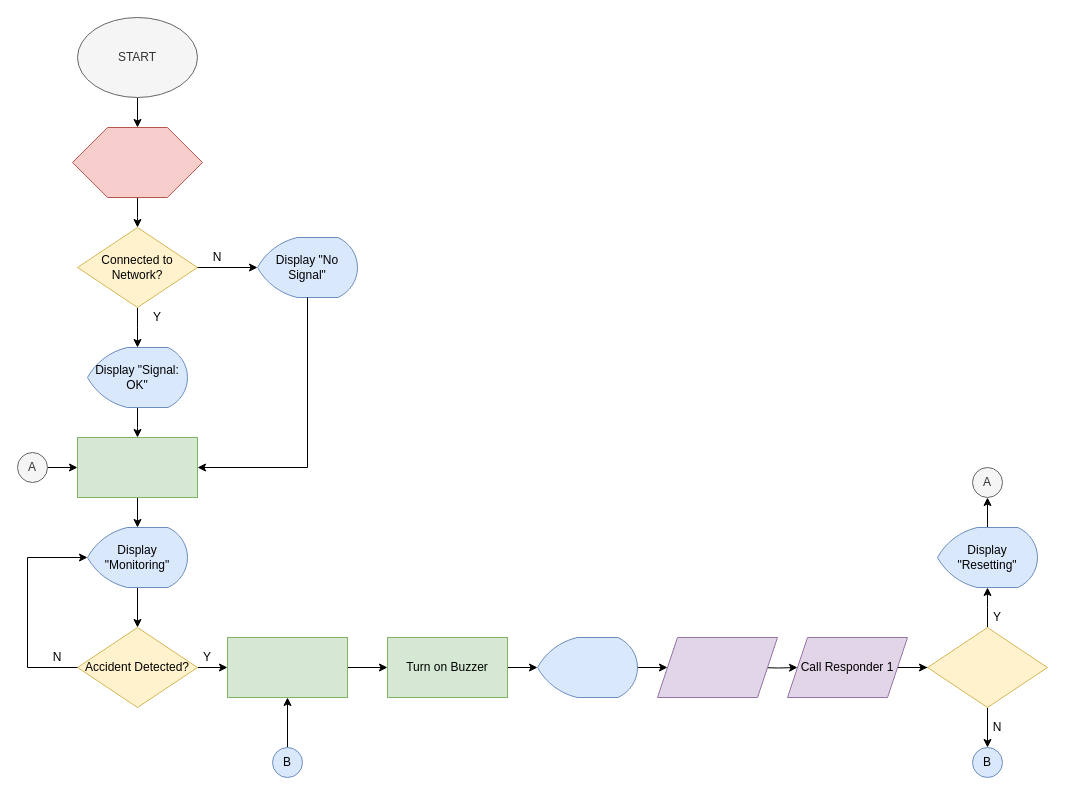
Image size: 1065x795. Some labels were removed from this diagram. Each missing label, with the centre of its shape:
"Display Camera Number" belongs at point 587,667.
"Initialize the GSM Module to the Network" belongs at point 137,162.
"Reset?" belongs at point 987,667.
"Send SMS Notifications" belongs at point 717,667.
"Turn on Green LED" belongs at point 137,467.
"Turn on Red LED" belongs at point 287,667.
